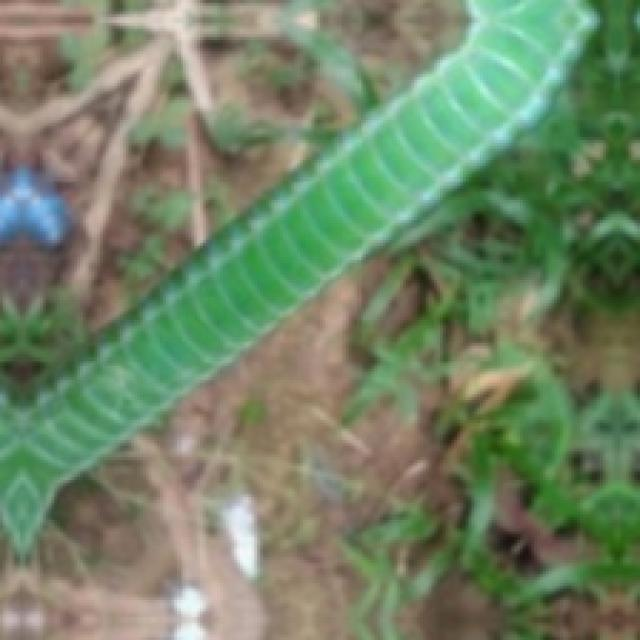red-tailed green ratsnake: (0, 0, 594, 549)
